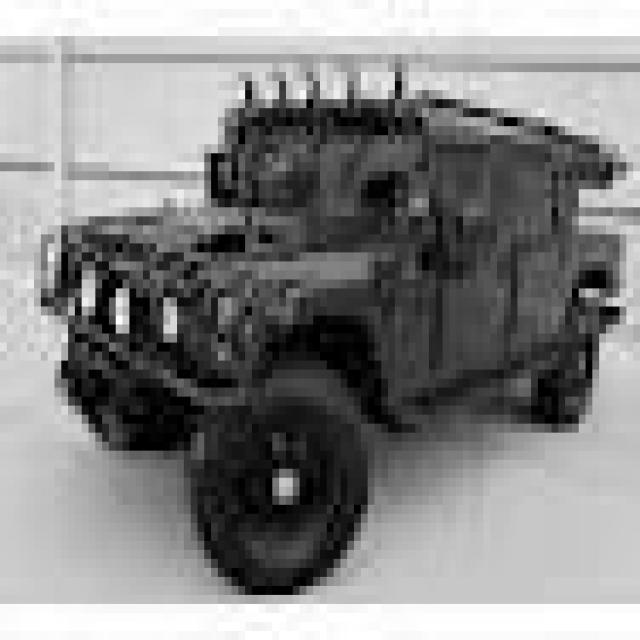car: (34, 63, 626, 586)
